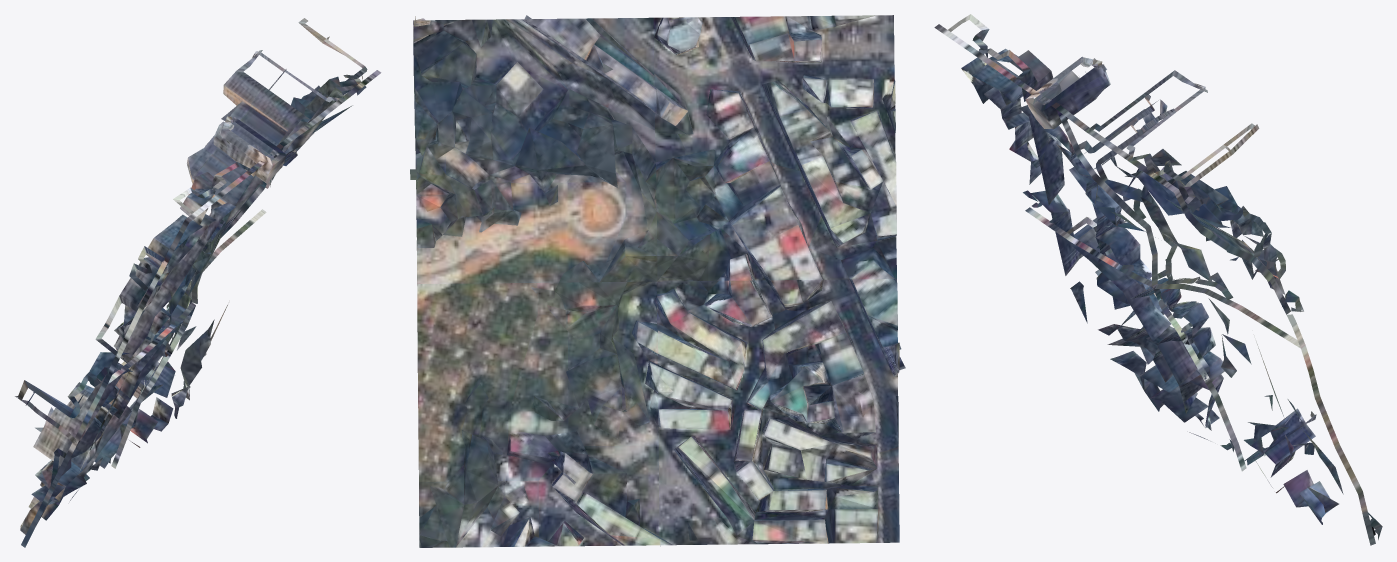
3 renders of one model, left to right at view 1: azimuth 30°, elevation 25°; view 2: azimuth 150°, elevation 25°; view 3: azimuth 270°, elevation 25°, orthographic. The views are drawn at different scales.
Size of the model in its own units: 308 by 307 by 271.
1 material, 1 textured.
